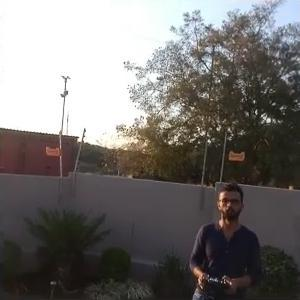follow: (183, 174, 263, 299)
